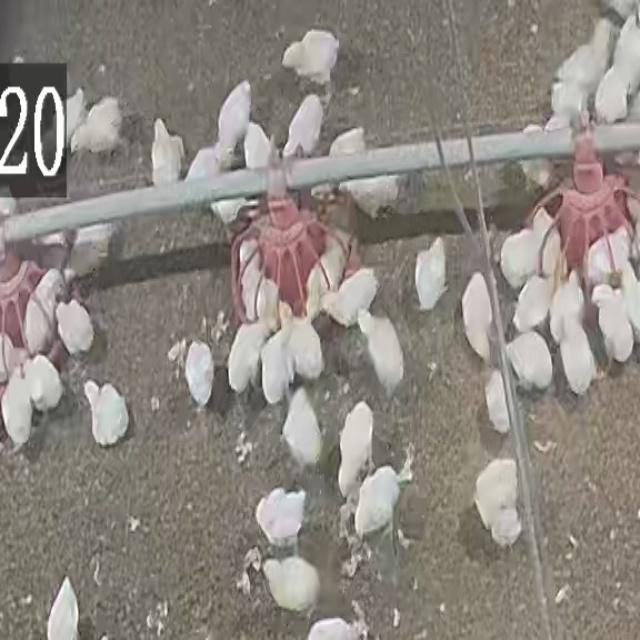chicken: (472, 458, 524, 548), (360, 310, 410, 399), (558, 14, 614, 84), (352, 465, 403, 539), (336, 400, 374, 499), (281, 386, 323, 472), (262, 554, 320, 612), (504, 330, 553, 398), (281, 30, 341, 85), (70, 95, 124, 156), (254, 486, 307, 548), (228, 320, 270, 398), (82, 380, 130, 448), (592, 285, 632, 366), (556, 318, 596, 399), (237, 247, 278, 324), (215, 80, 253, 162), (460, 271, 494, 362), (327, 268, 378, 327), (62, 222, 115, 278), (286, 305, 322, 382), (342, 174, 402, 220), (592, 62, 635, 126), (548, 269, 584, 345), (282, 94, 324, 159), (512, 270, 554, 334), (499, 228, 541, 290), (2, 368, 34, 449), (414, 236, 448, 312), (260, 324, 292, 404), (22, 288, 58, 358), (54, 296, 94, 358), (151, 117, 186, 186), (188, 341, 223, 404), (27, 352, 62, 411)
